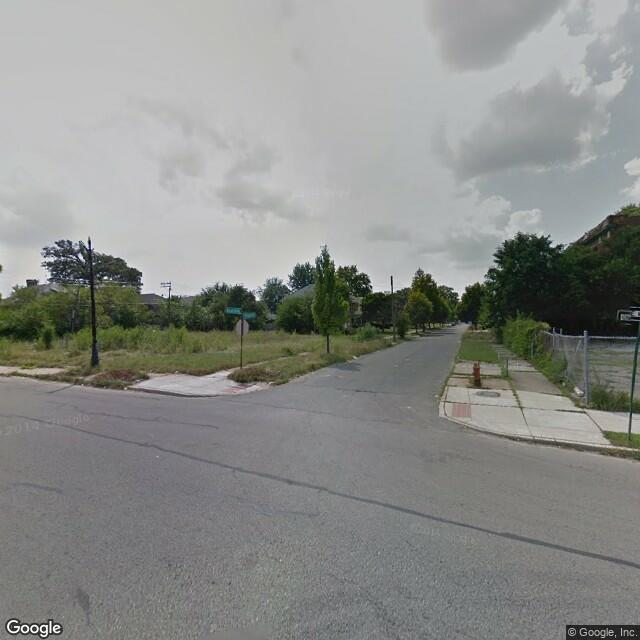litter: (168, 367, 184, 375), (349, 352, 358, 361), (123, 384, 129, 392)
